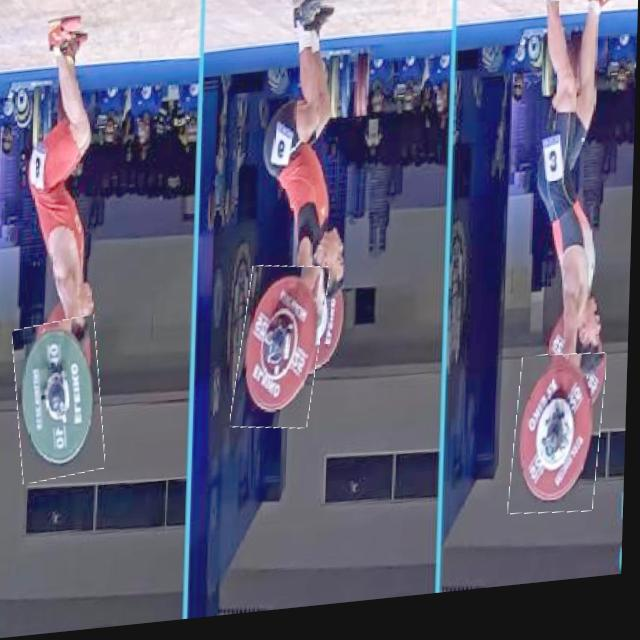barbell: (514, 363, 608, 530), (238, 269, 329, 440), (16, 318, 109, 485)
